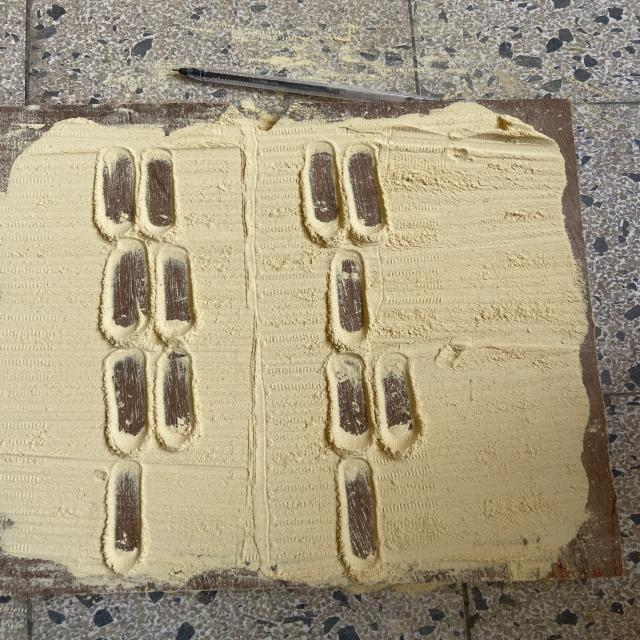double: (98, 238, 200, 346), (322, 352, 426, 457), (100, 350, 203, 452), (298, 141, 390, 246), (90, 143, 182, 239)
single: (333, 458, 389, 579), (98, 457, 150, 575), (324, 248, 374, 350)
